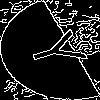Y: (25, 25, 100, 74)
